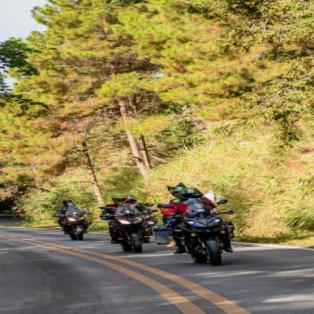Motocicleta: (169, 202, 239, 267), (110, 211, 159, 256)
